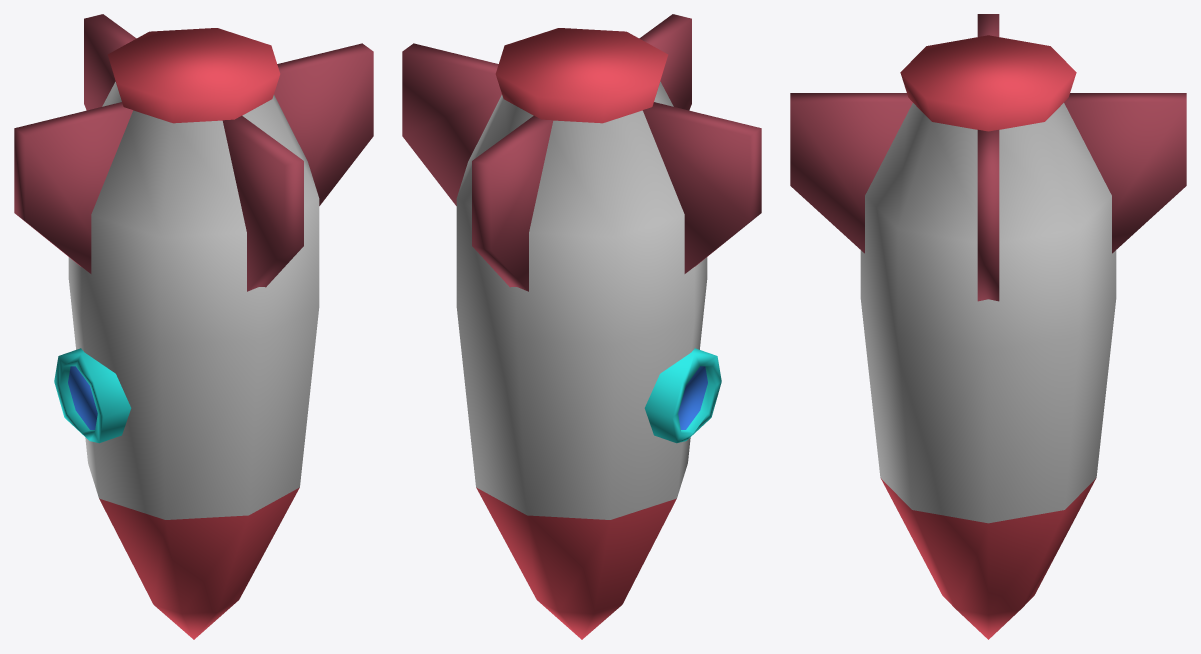
The model's file is Rocket.fbx.
The picture shows the model from 3 angles, left to right: view 1: azimuth 30°, elevation 25°; view 2: azimuth 150°, elevation 25°; view 3: azimuth 270°, elevation 25°; orthographic projection.
Visible parts, largest first — view 1: Cube.001; view 2: Cube.001; view 3: Cube.001.
Part boxes in pixels (x1,y1,x2,y2): Cube.001: [14, 14, 373, 639]; Cube.001: [402, 14, 761, 639]; Cube.001: [790, 14, 1186, 639].
Bounding box in the file's own units: 63.24 × 100 × 63.24.
